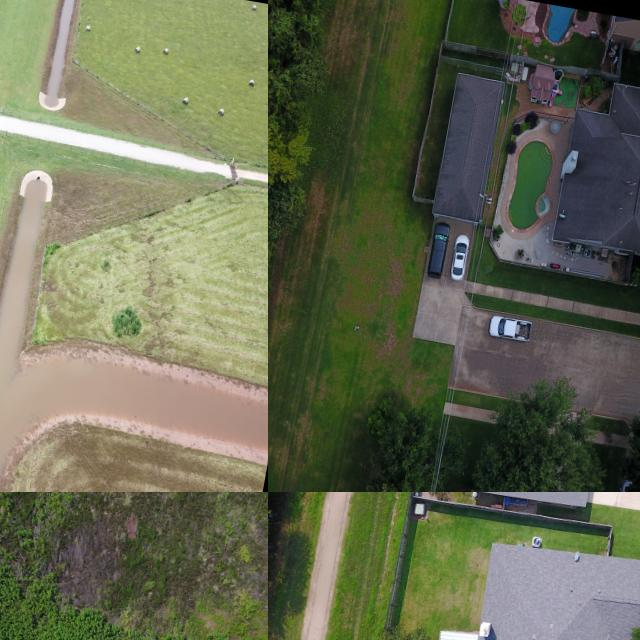fire: (0, 170, 268, 483), (47, 0, 74, 97)
